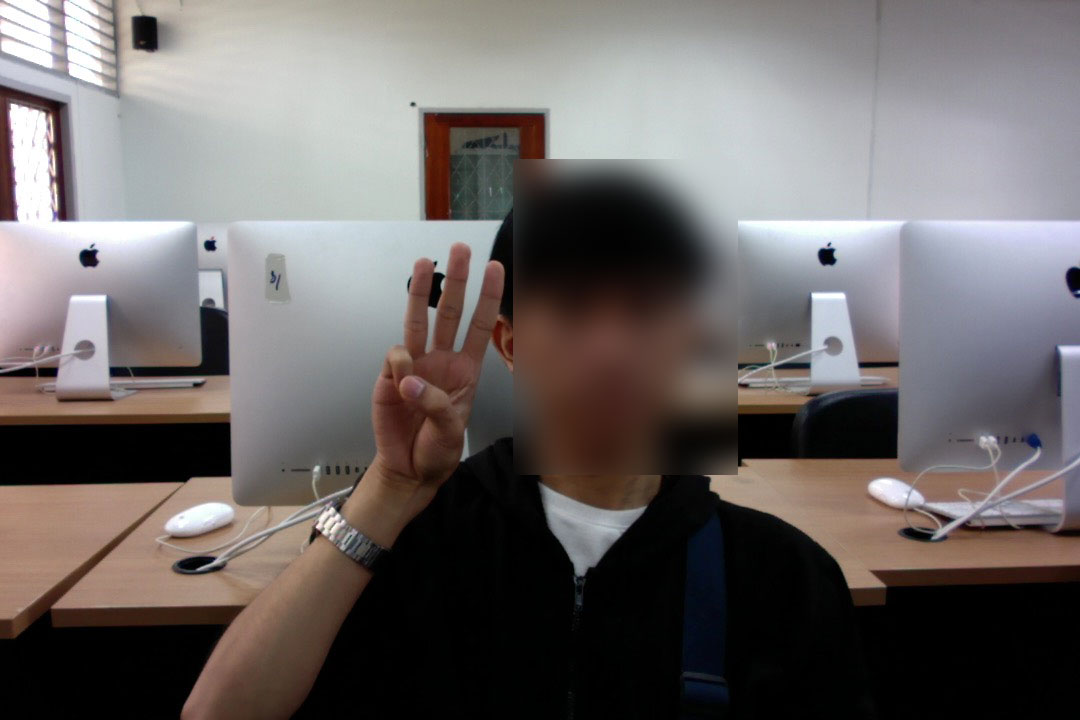wor: (366, 231, 509, 492)
